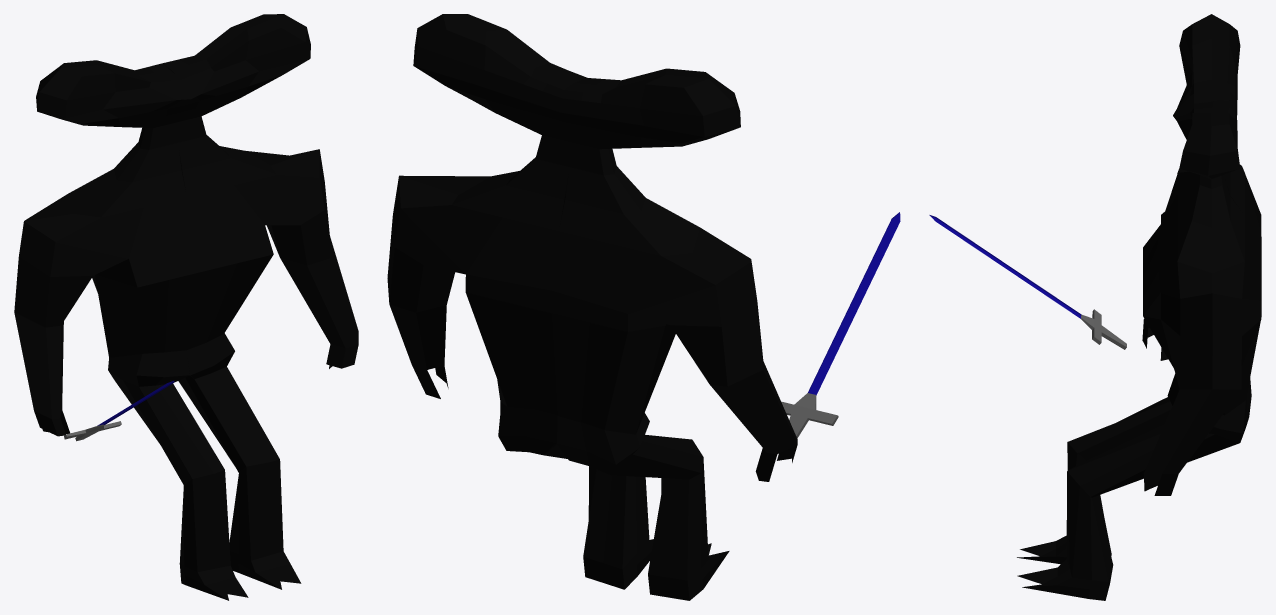
Rendered from SwordsMandd2.obj.
The picture shows the model from 3 angles, left to right: view 1: azimuth 30°, elevation 25°; view 2: azimuth 150°, elevation 25°; view 3: azimuth 270°, elevation 25°; orthographic projection. The views are drawn at different scales.
Parts seen in each view (by area): view 1: Cube, Plane; view 2: Cube, Plane; view 3: Cube, Plane.
Boxes of the visible parts, x1,y1,x2,y2 form: Cube: [14, 14, 358, 600]; Plane: [64, 381, 174, 441]; Cube: [387, 14, 797, 600]; Plane: [781, 212, 900, 438]; Cube: [1017, 14, 1261, 600]; Plane: [929, 215, 1126, 349].
Size of the model in its own units: 11.45 by 16.62 by 9.83.
